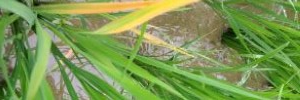RiceTungro: (71, 1, 205, 38), (33, 1, 155, 13)
